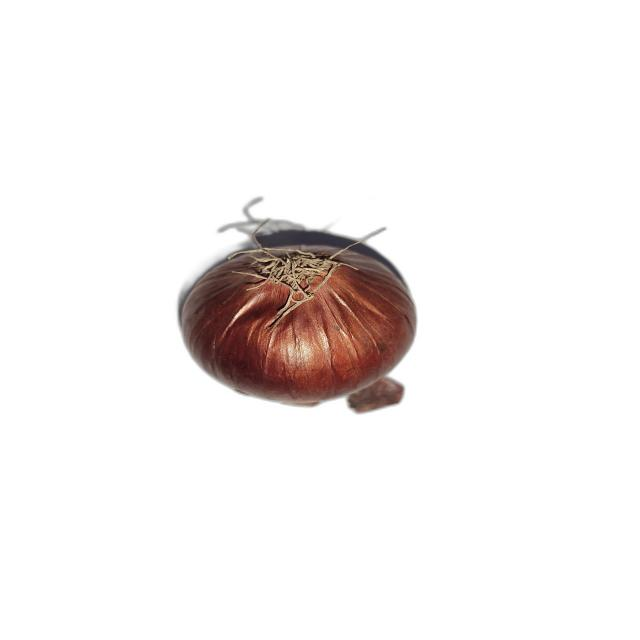onion: (178, 219, 419, 408)
